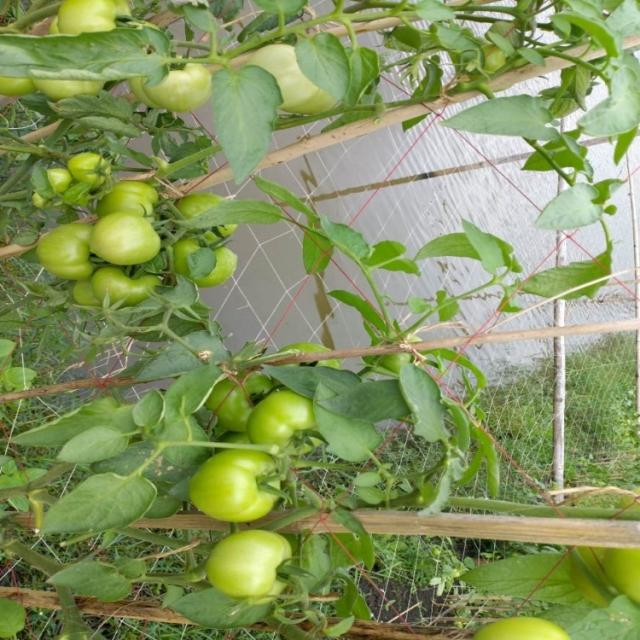tomato: (198, 519, 308, 609), (185, 437, 293, 521), (257, 389, 338, 456), (86, 212, 173, 266), (86, 266, 185, 311), (47, 1, 142, 45), (250, 55, 321, 110), (211, 374, 287, 425), (187, 239, 255, 288), (469, 611, 578, 640), (143, 62, 204, 110), (42, 218, 95, 266), (98, 184, 157, 222), (63, 152, 104, 182)
